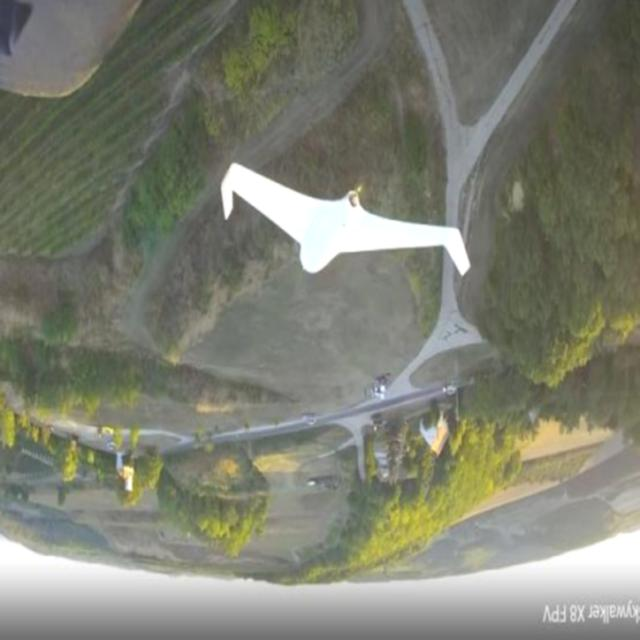plane: (220, 162, 473, 280)
